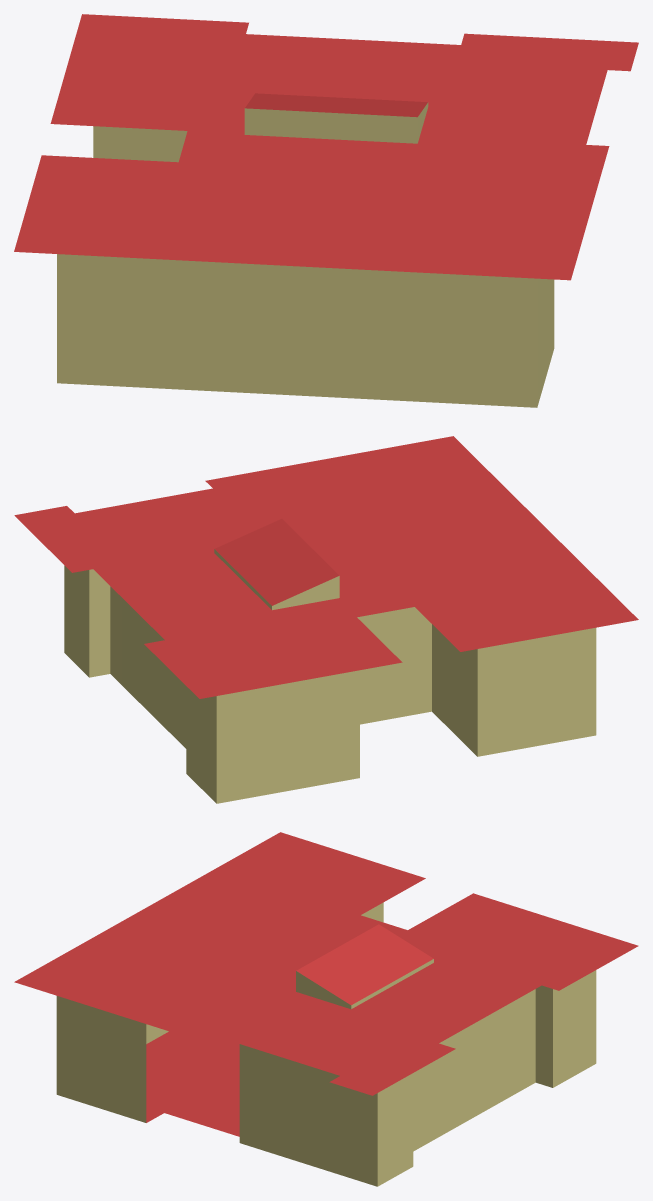
The picture shows the model from 3 angles, top to bottom: view 1: azimuth 30°, elevation 25°; view 2: azimuth 150°, elevation 25°; view 3: azimuth 270°, elevation 25°; orthographic projection. The views are drawn at different scales.
Visible parts, largest first — view 1: group_3, group_7, group_6, group_5, group_4; view 2: group_3, group_7, group_6, group_4, group_5; view 3: group_3, group_7, group_8, group_6, group_4, group_5.
Part boxes in pixels (x1=…): group_3: x1=14, y1=14, x2=638, y2=280; group_7: x1=57, y1=126, x2=554, y2=407; group_6: x1=16, y1=15, x2=637, y2=280; group_5: x1=244, y1=102, x2=428, y2=143; group_4: x1=245, y1=93, x2=427, y2=117; group_3: x1=15, y1=436, x2=638, y2=698; group_7: x1=64, y1=565, x2=596, y2=803; group_6: x1=14, y1=437, x2=637, y2=698; group_4: x1=215, y1=519, x2=339, y2=605; group_5: x1=214, y1=549, x2=339, y2=610; group_3: x1=14, y1=832, x2=638, y2=1095; group_7: x1=56, y1=902, x2=596, y2=1186; group_8: x1=146, y1=1031, x2=239, y2=1136; group_6: x1=16, y1=832, x2=636, y2=1094; group_4: x1=296, y1=924, x2=433, y2=1005; group_5: x1=296, y1=959, x2=433, y2=1009.
Bounding box in the file's own units: 30.73 × 30.77 × 7.4.
